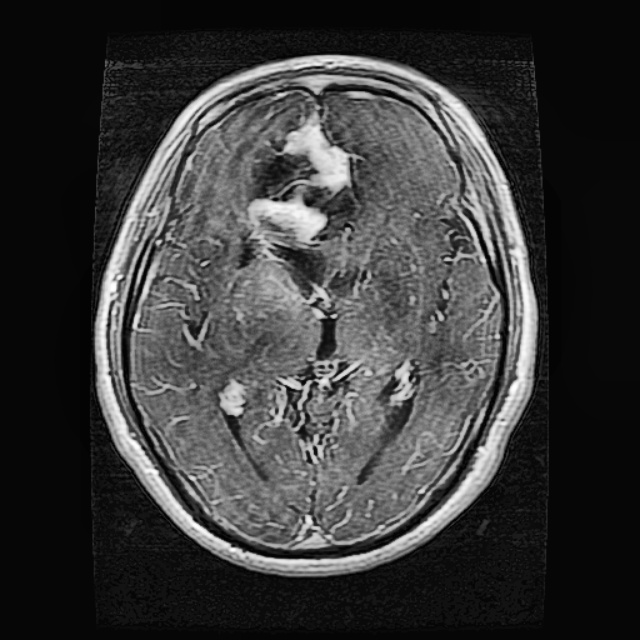Glioma: (258, 129, 353, 290)
